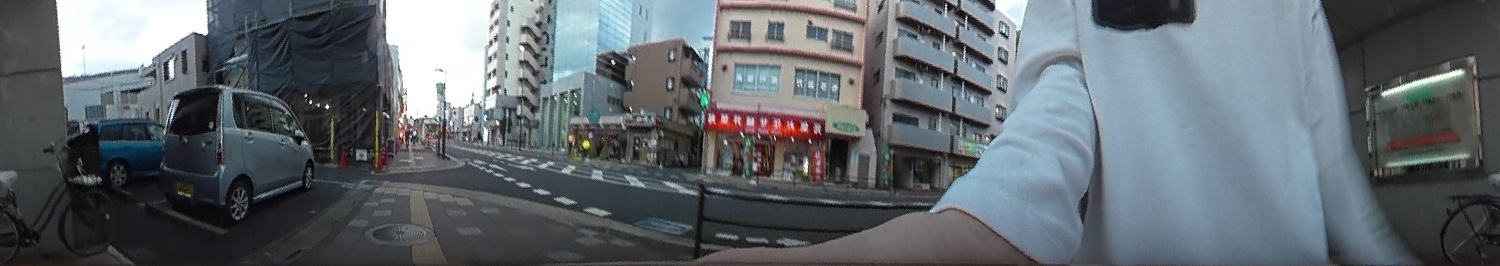difficult_person: (400, 127, 413, 150)
